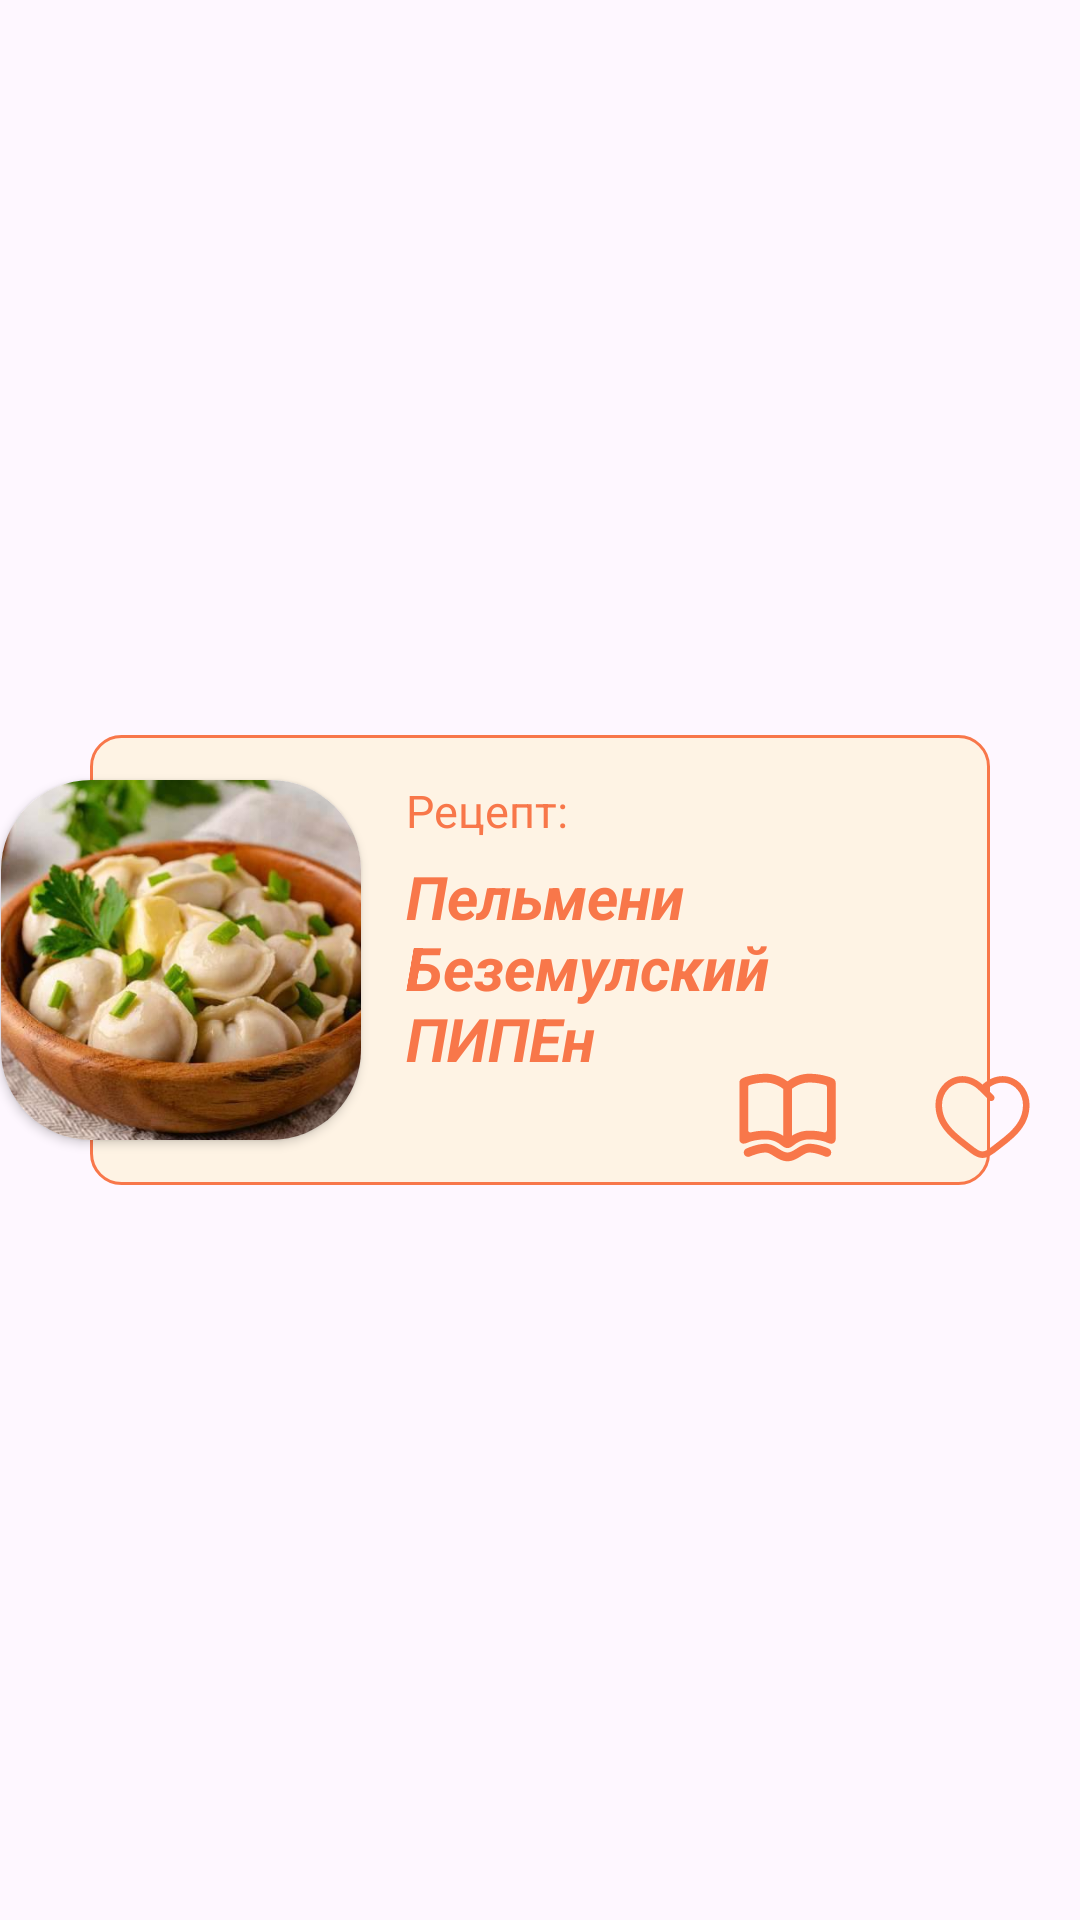

Point at icon controls on the screen. Image size 1080px x 1920px, points as (x=x, y=y).
like: (x=982, y=1117)
open: (x=787, y=1117)
